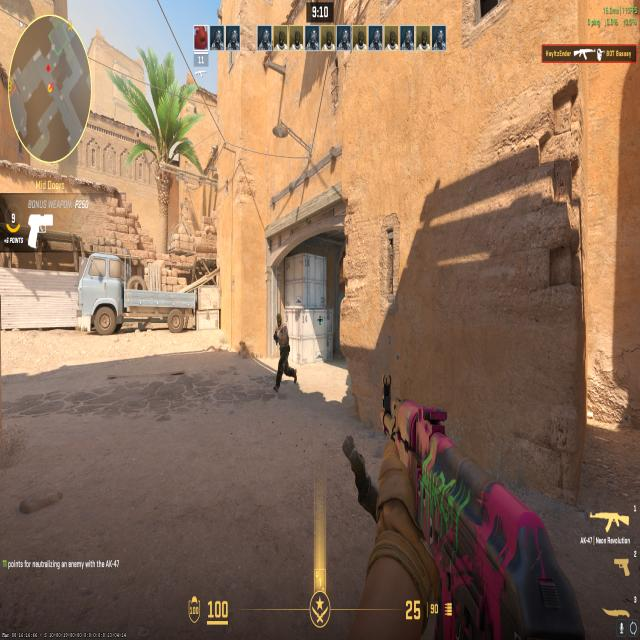t: (271, 311, 300, 394)
